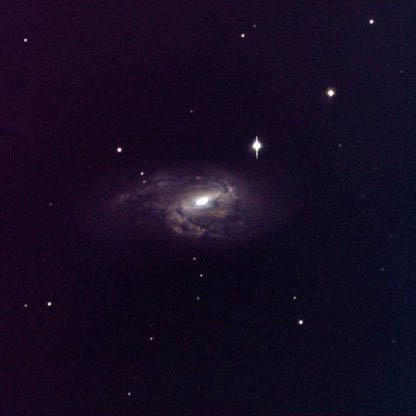Messier 66: (108, 137, 297, 267)
